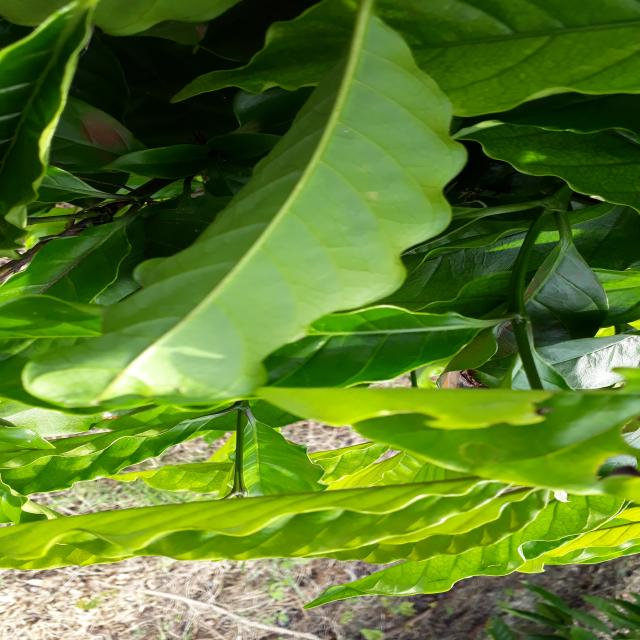Sanas: (17, 11, 468, 412)
